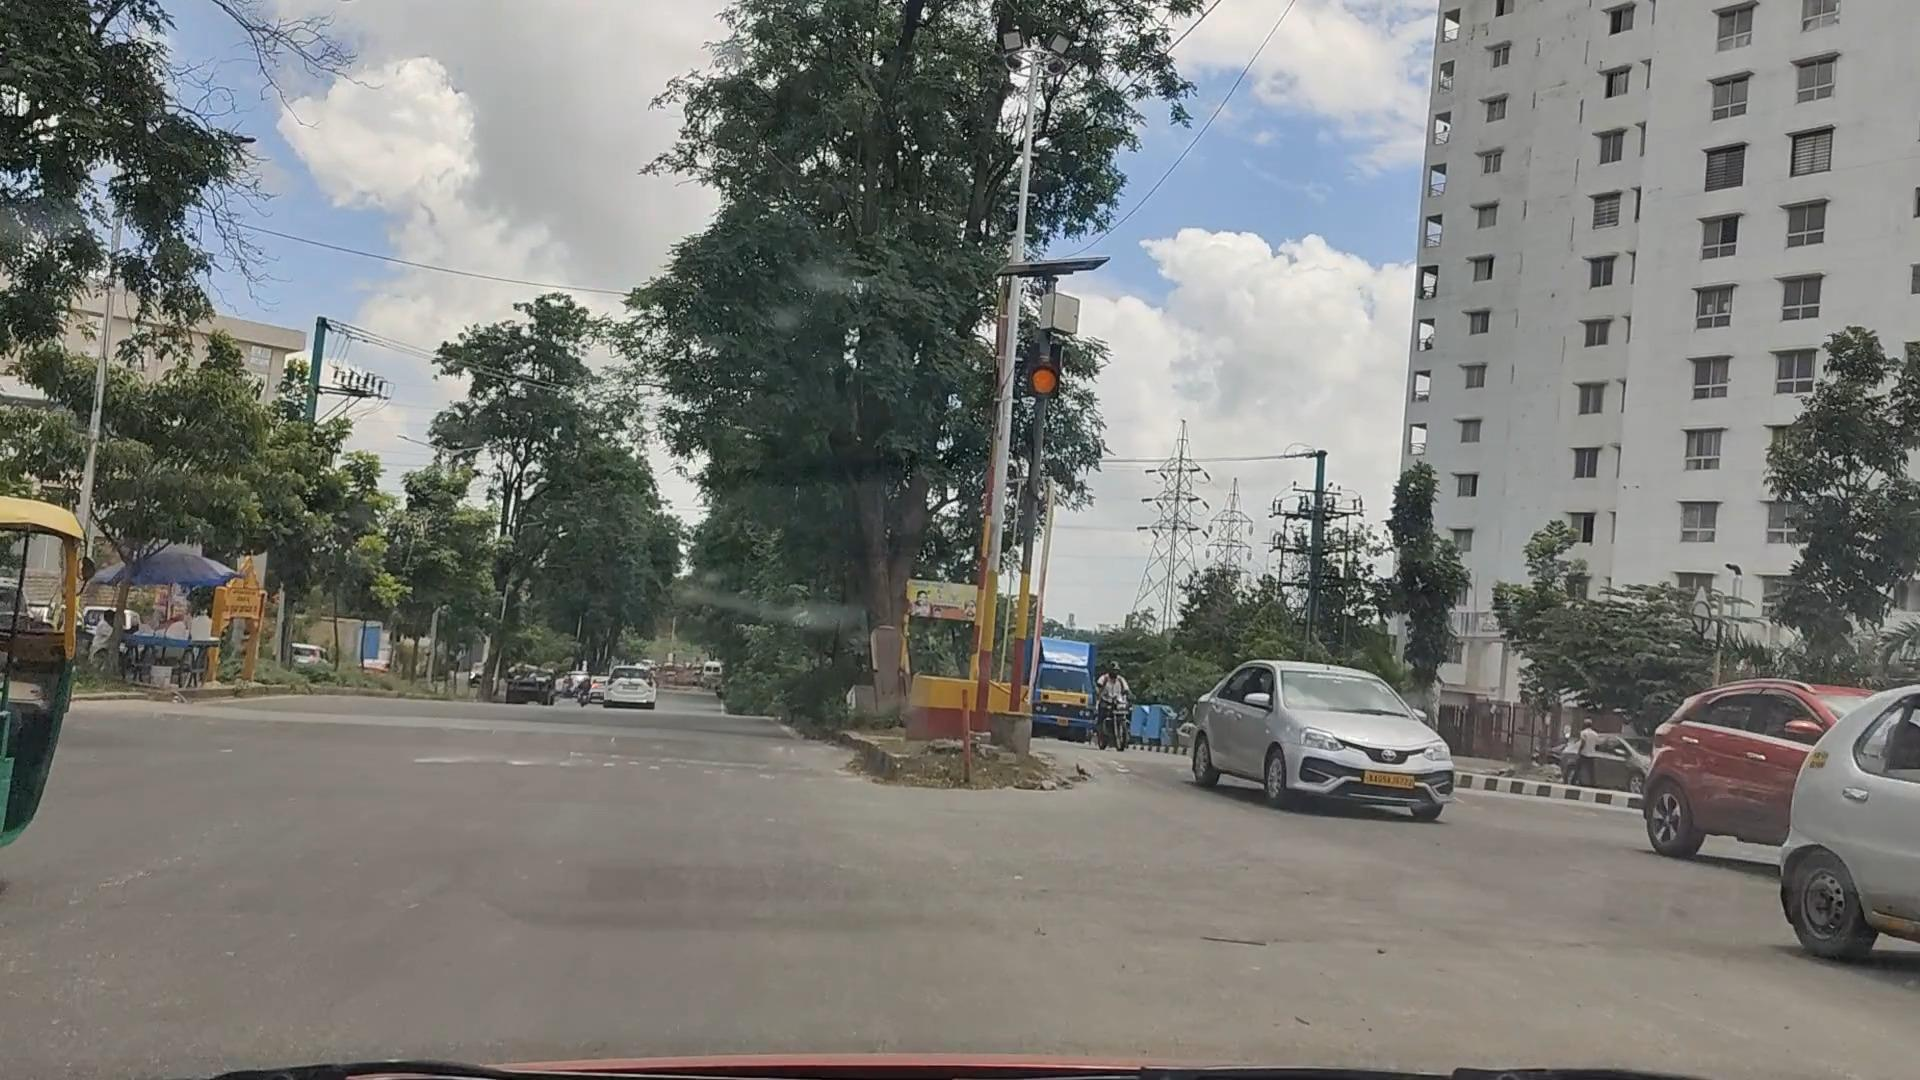LMV: (1203, 645, 1448, 818)
